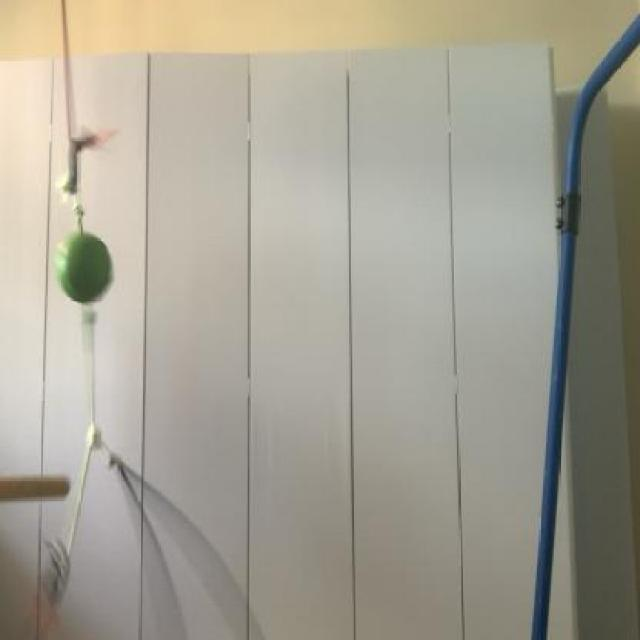baseball: (47, 223, 121, 309)
